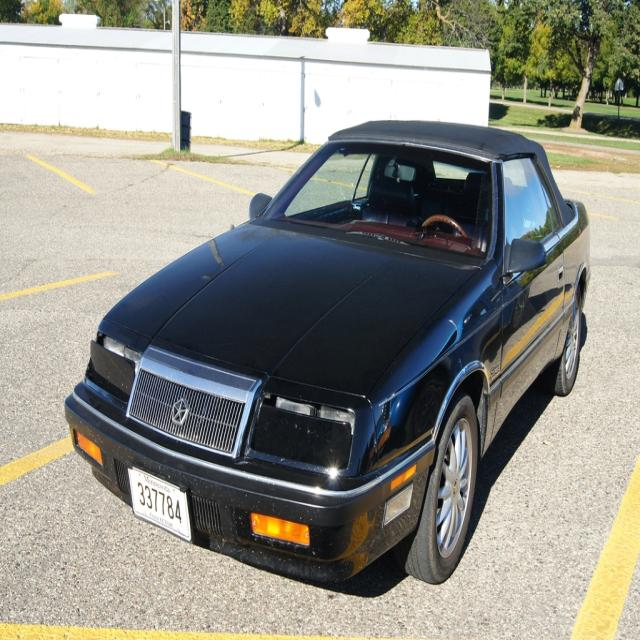car: (63, 118, 590, 582)
